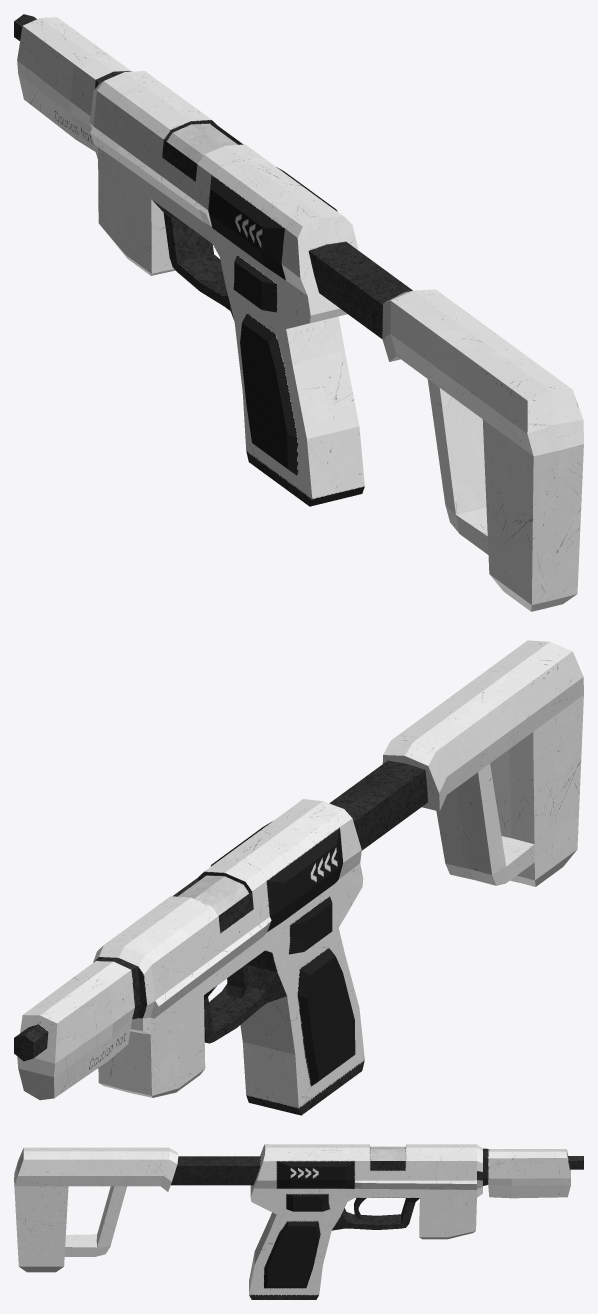
The model's file is Gun_VF.glb.
3 renders of one model, top to bottom at view 1: azimuth 30°, elevation 25°; view 2: azimuth 150°, elevation 25°; view 3: azimuth 270°, elevation 25°, orthographic. The views are drawn at different scales.
Visible parts, largest first — view 1: Gun_Mesh_VF; view 2: Gun_Mesh_VF; view 3: Gun_Mesh_VF.
Part boxes in pixels (left/top/right/bottom): Gun_Mesh_VF: left=14, top=14, right=583, bottom=611; Gun_Mesh_VF: left=14, top=640, right=583, bottom=1115; Gun_Mesh_VF: left=14, top=1144, right=583, bottom=1299.
Size of the model in its own units: 1.48 by 5.02 by 17.84.
Materials: 1 (1 with a texture image).
